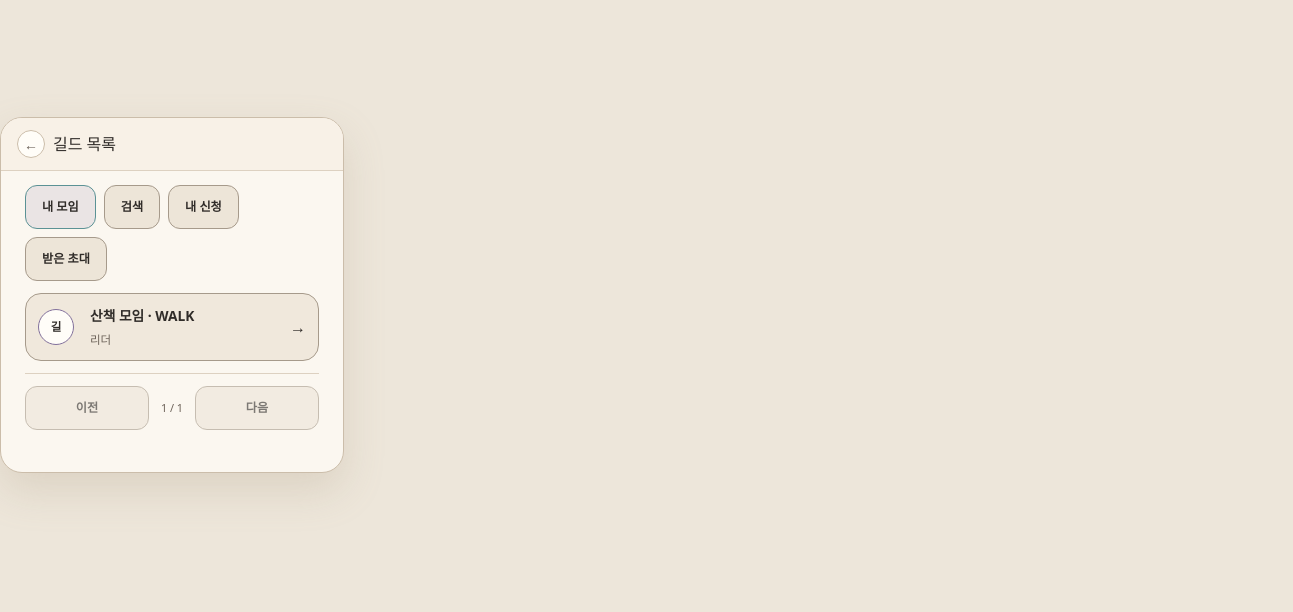
내 모임에서 멤버와 허용된 관리 화면을 연결한다
The width and height of the screenshot is (1293, 612).
Click the button "길 산책 모임 · WALK 리더 →".
click(172, 327)  # box [25, 293, 319, 361]
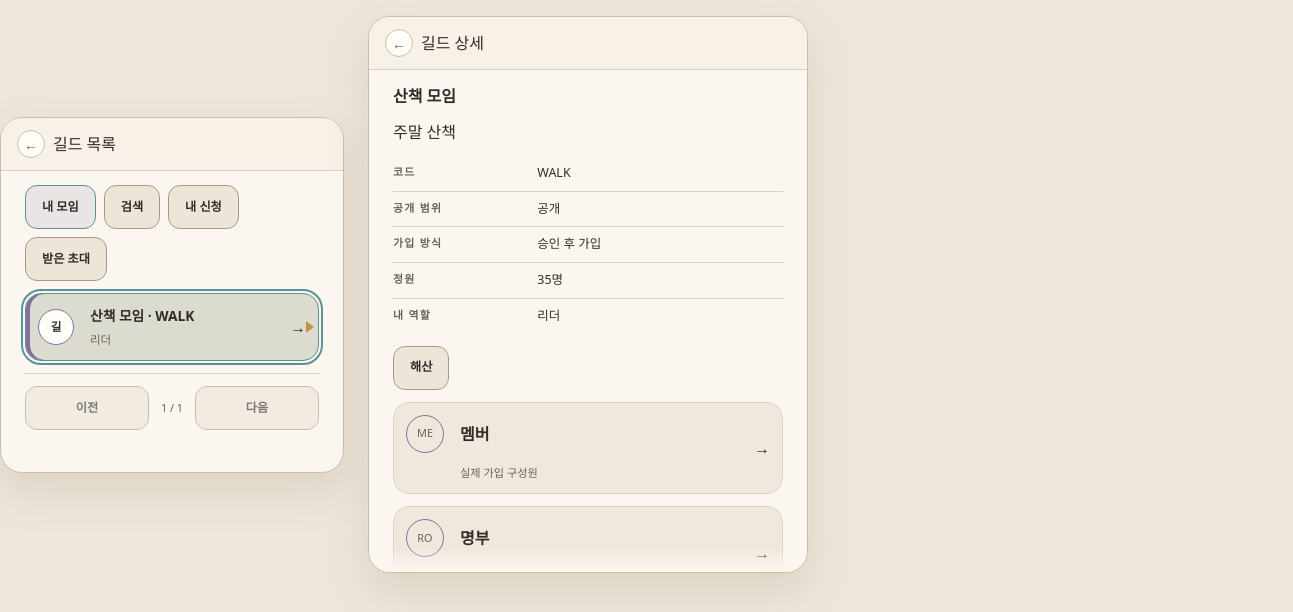
Result: the text "주말 산책" is shown at [393, 121, 456, 143]
Click the button "ME 멤버 실제 가입 구성원 →".
click(425, 434)  # box [393, 402, 783, 495]
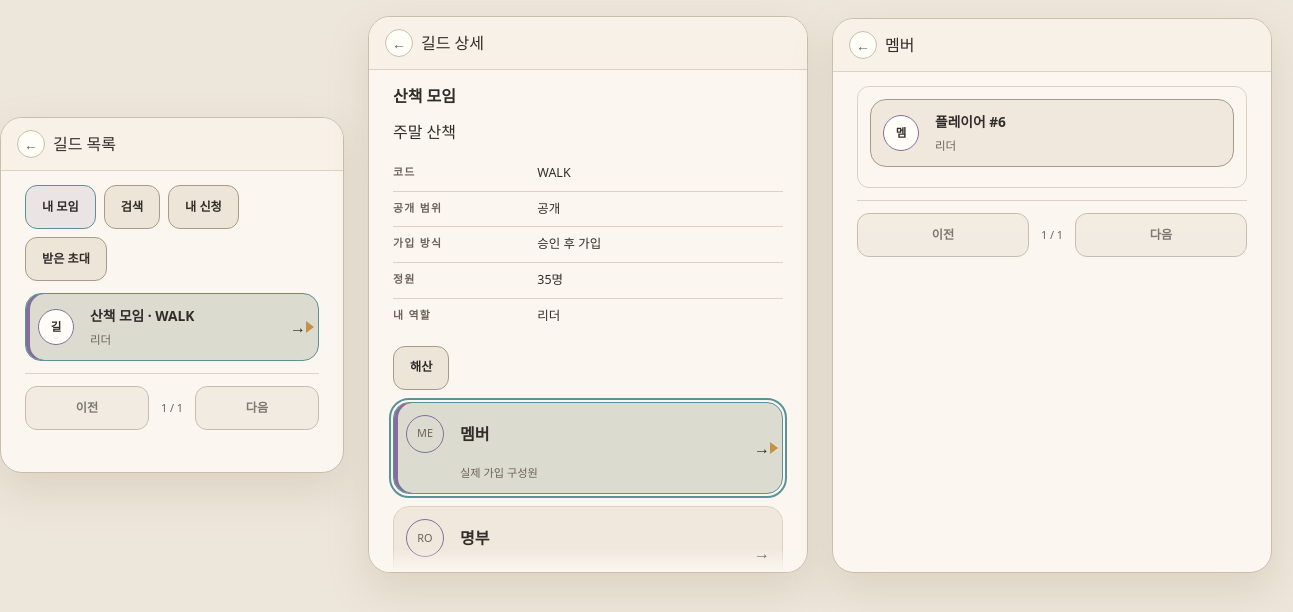
Result: the text "플레이어 #6" is shown at [935, 112, 1006, 130]
Click the button named "모임 상세로".
click(863, 44)  # box [849, 30, 877, 58]
(page scrolled)
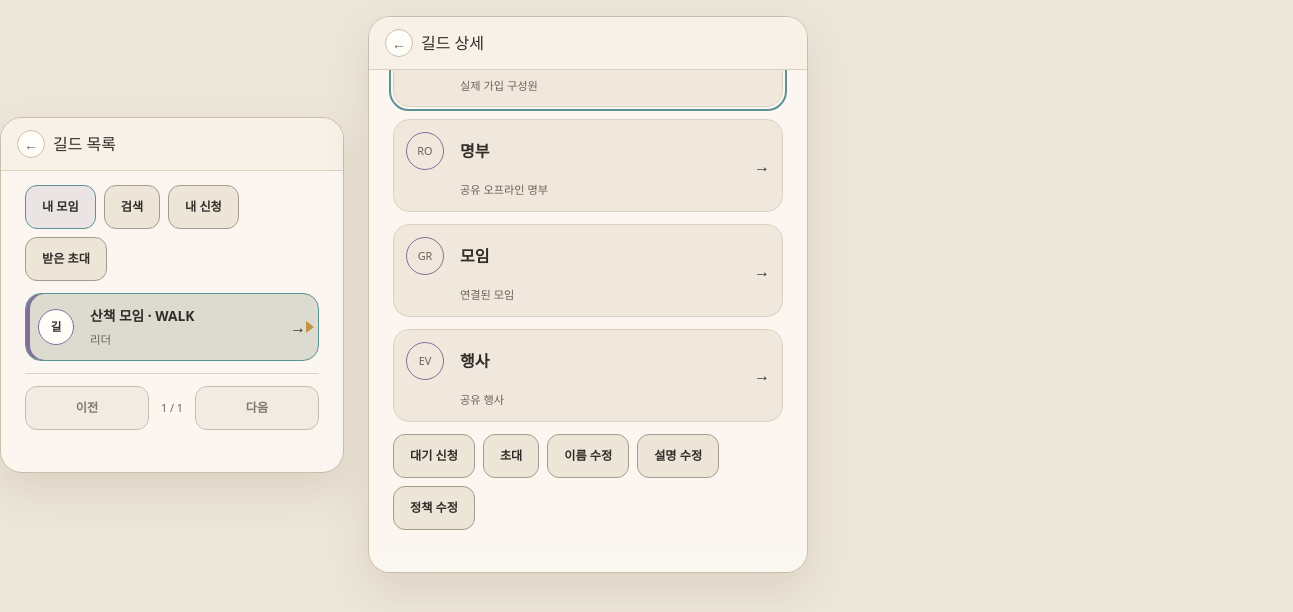
Click the button "정책 수정".
click(434, 508)  # box [393, 486, 475, 530]
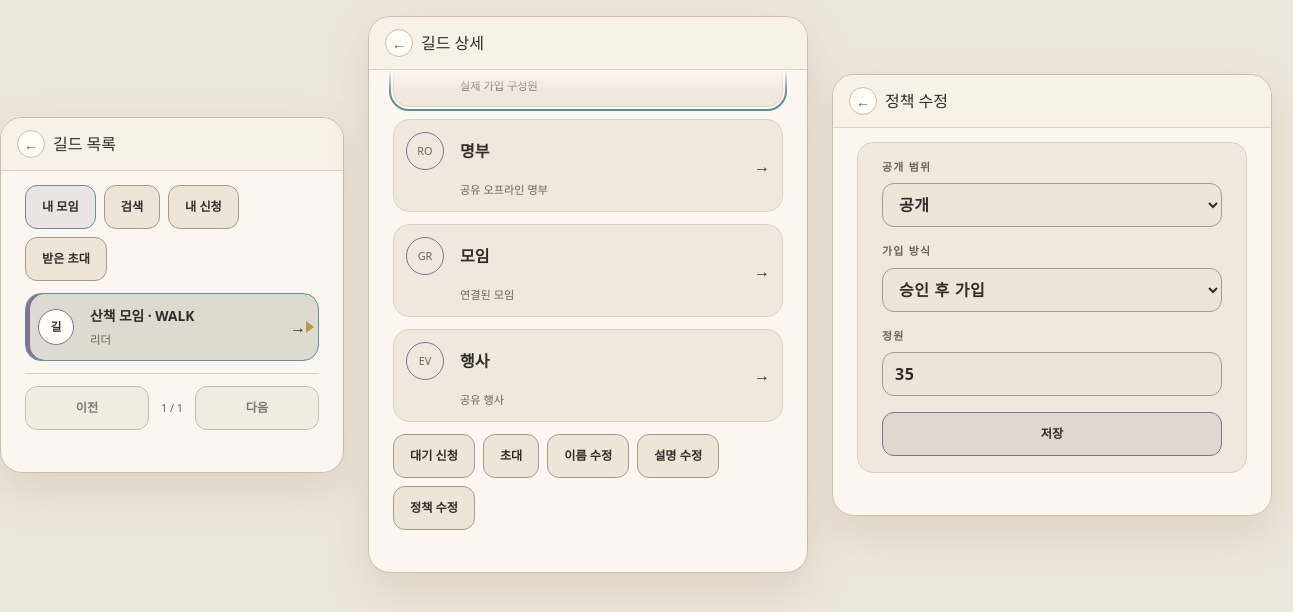
Result: the dropdown labelled "가입 방식" shows "승인 후 가입" at [882, 268, 1222, 312]
